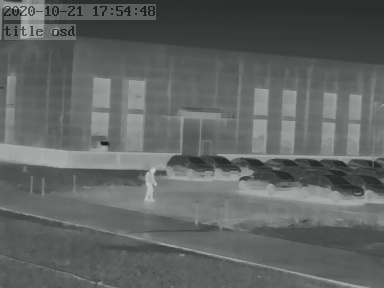person: (144, 165, 159, 200)
vehicle: (237, 169, 303, 191), (305, 173, 358, 199), (165, 152, 213, 179), (205, 153, 243, 177), (349, 173, 382, 199), (232, 154, 271, 172), (347, 155, 381, 171), (261, 155, 297, 170), (317, 156, 348, 170), (295, 155, 325, 169)
